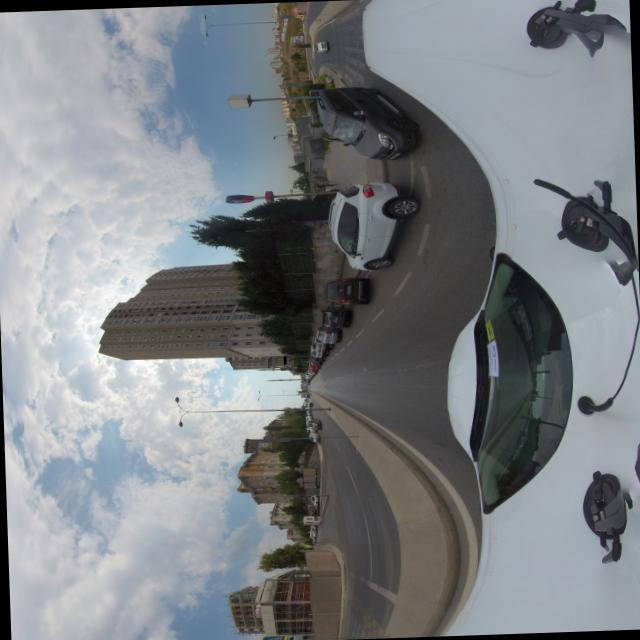SignStore: (283, 355, 286, 363)
